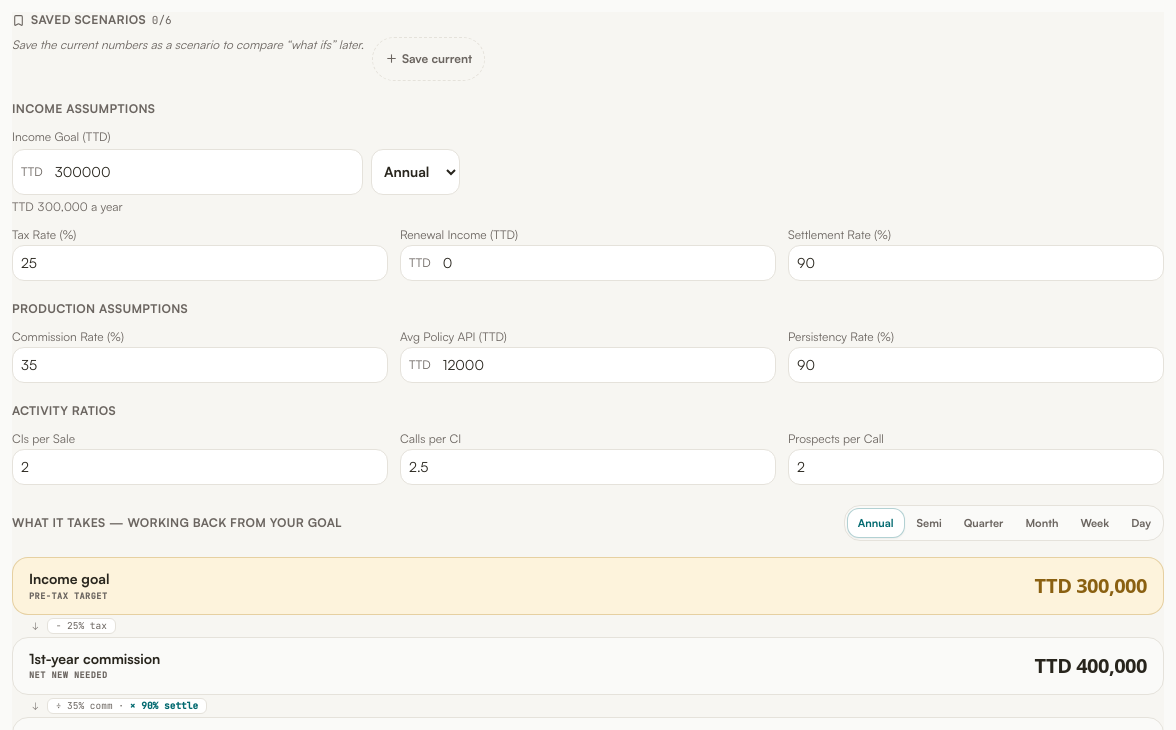
GoalDecompositionTab — R-06 scenario persistence › does NOT let a slow prefs hydration clobber a scenario saved before it resolved
Expected: the element with test id "scenario-chips" is shown, [12,12,485,81]
Click the button with test id "scenario-save-open" at point(428, 58), box [372,36,485,80]
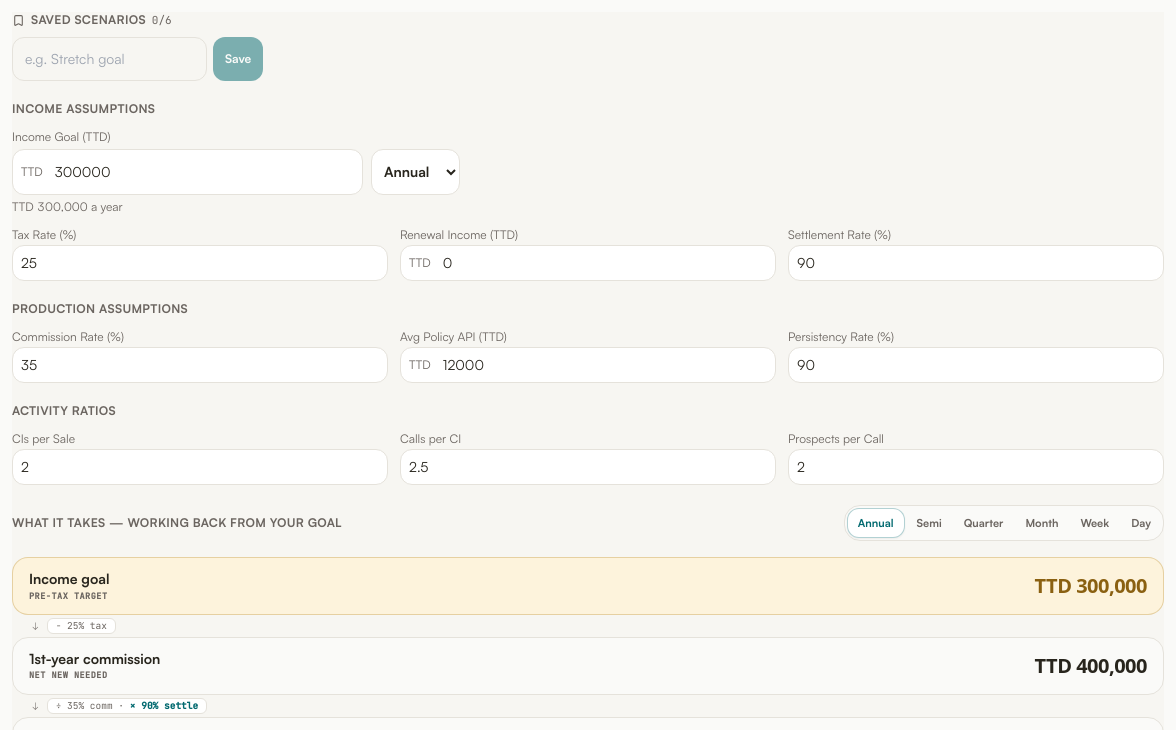
Type "Survivor" into the field with test id "scenario-name-input" at point(110, 58), box [12,36,207,80]
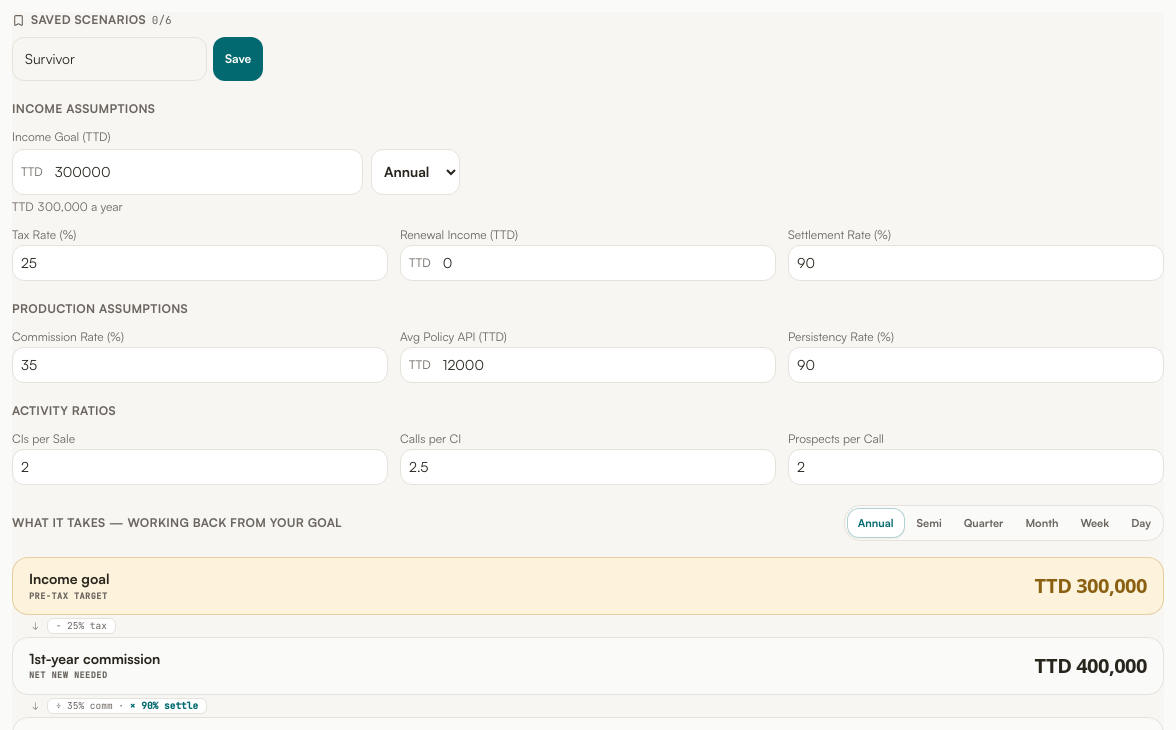
Click the button with test id "scenario-save-confirm" at point(238, 58), box [213,36,263,80]
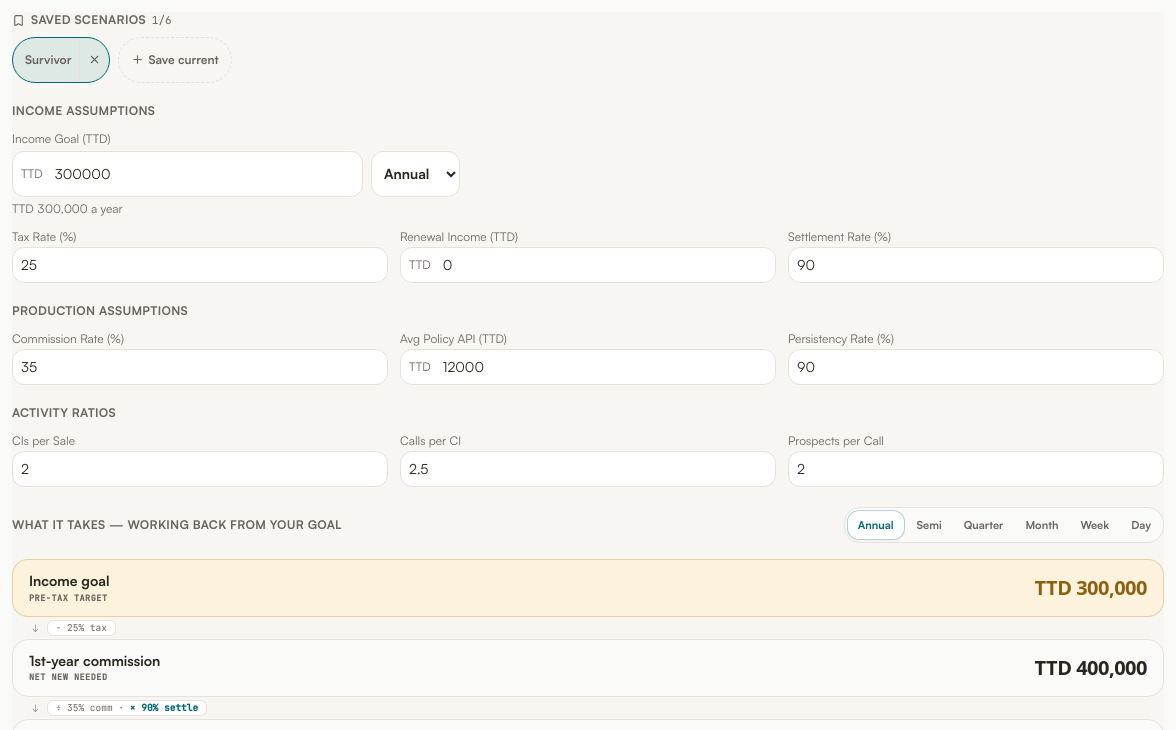
Expected: the button "Survivor" is shown, [13,38,79,82]
